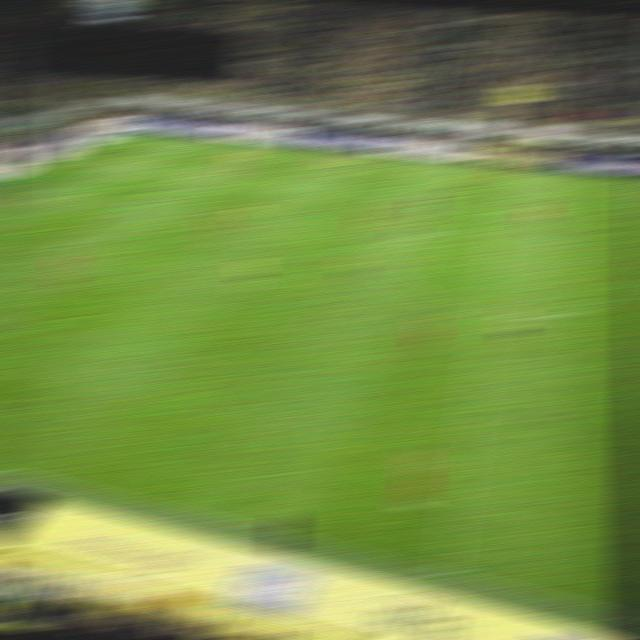bigarea_top_inner: (183, 163, 210, 175)
bigarea_top_outter: (63, 152, 89, 163)
bottom_arc_area_intersection: (46, 237, 77, 252)
corner: (117, 131, 144, 142)
halfcircle_bottom: (474, 308, 501, 320)
halfcircle_top: (486, 227, 516, 240)
midline_bottom_intersection: (427, 563, 466, 582)
midline_top_intersection: (497, 165, 525, 176)
smallarea_top_inner: (47, 177, 74, 188)
top_arc_area_intersection: (130, 193, 158, 204)
